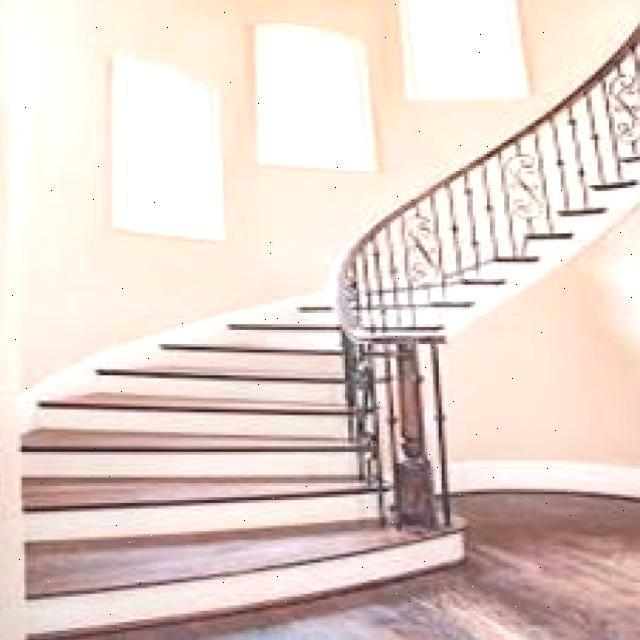stair: (16, 364, 464, 617)
